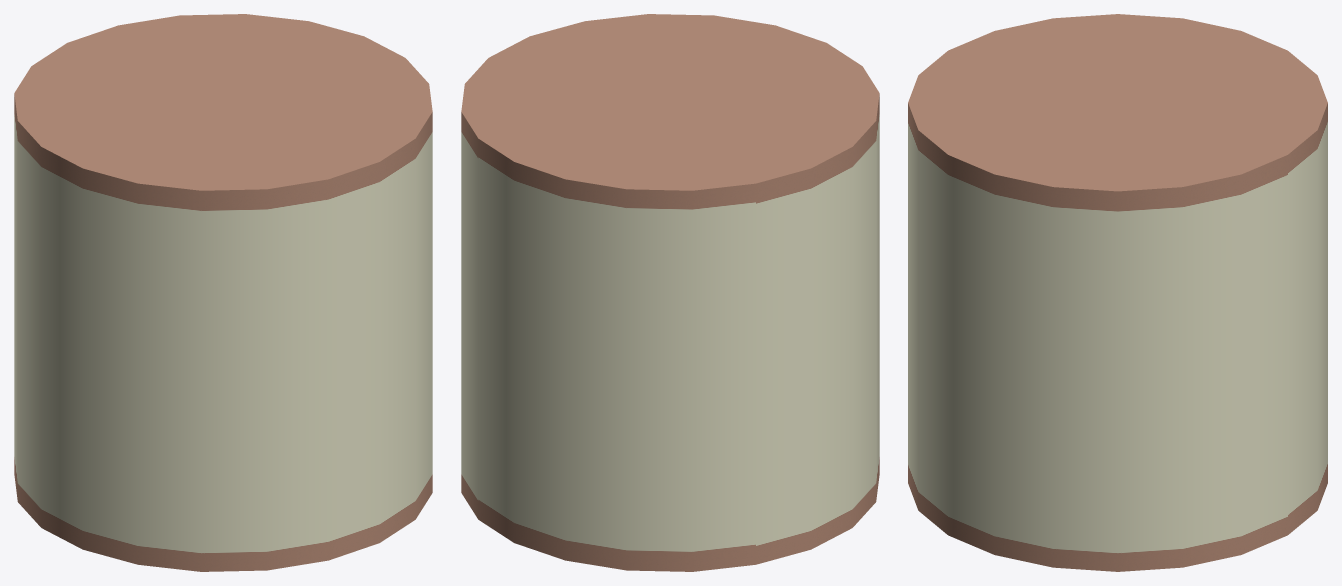
The model's file is PR_CylinderLarge.fbx.
3 views of the same model, side by side, from view 1: azimuth 30°, elevation 25°; view 2: azimuth 150°, elevation 25°; view 3: azimuth 270°, elevation 25° (orthographic).
Visible parts, largest first — view 1: pCylinder1; view 2: pCylinder1; view 3: pCylinder1.
Boxes of the visible parts, left/top/right/bottom form: pCylinder1: left=14, top=14, right=432, bottom=571; pCylinder1: left=461, top=14, right=879, bottom=571; pCylinder1: left=908, top=14, right=1327, bottom=571.
Bounding box in the file's own units: 3 × 3 × 3.
